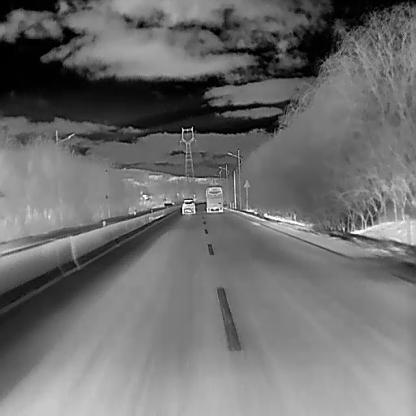bus: (204, 184, 224, 214)
car: (180, 195, 196, 215)
